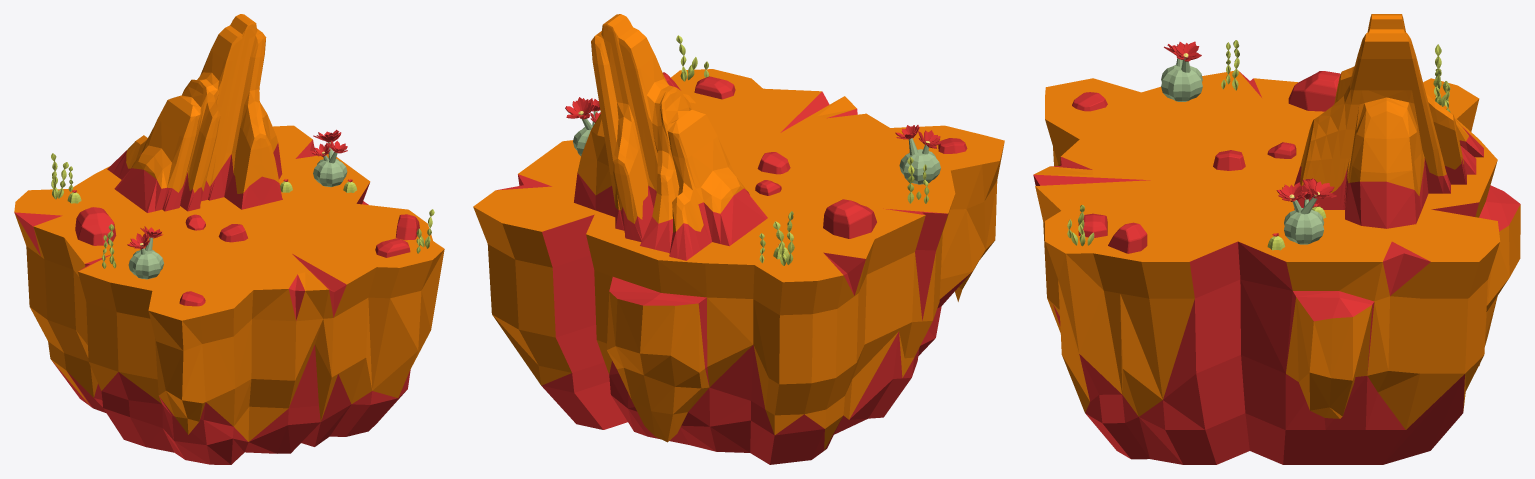
The model's file is Island_9.glb.
3 renders of one model, left to right at view 1: azimuth 30°, elevation 25°; view 2: azimuth 150°, elevation 25°; view 3: azimuth 270°, elevation 25°, orthographic. The views are drawn at different scales.
Parts seen in each view (by area): view 1: Island_9_Base, Island_9_Rock, Island_9; view 2: Island_9_Base, Island_9_Rock, Island_9; view 3: Island_9_Base, Island_9_Rock, Island_9.
Boxes of the visible parts, x1,y1,x2,y2 form: Island_9_Base: (14,125,444,464); Island_9_Rock: (107,14,282,212); Island_9: (51,129,434,306); Island_9_Base: (473,69,1004,464); Island_9_Rock: (574,14,767,260); Island_9: (565,35,967,265); Island_9_Base: (1033,71,1520,464); Island_9_Rock: (1294,14,1483,228); Island_9: (1067,40,1450,253).
Size of the model in its own units: 21.69 by 21.66 by 22.43.
1 material, 1 textured.
